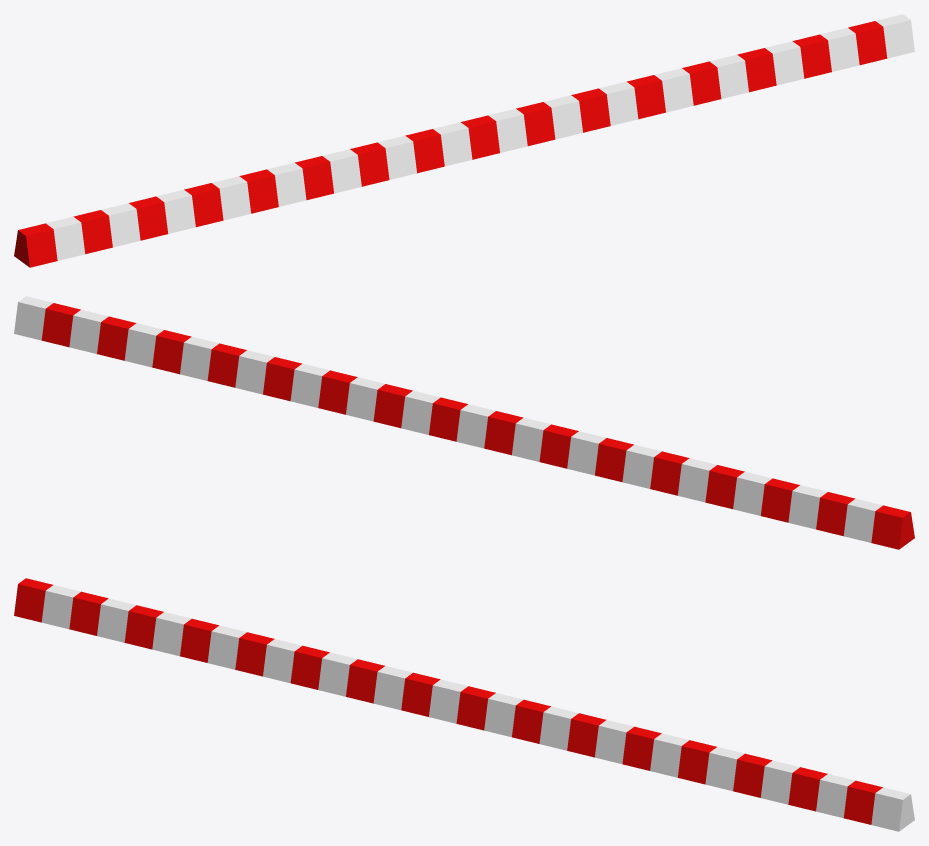
Rendered from Barrier32RedWhite.fbx.
The picture shows the model from 3 angles, top to bottom: view 1: azimuth 30°, elevation 25°; view 2: azimuth 150°, elevation 25°; view 3: azimuth 330°, elevation 25°; orthographic projection.
Parts seen in each view (by area): view 1: Barrier32RedWhite; view 2: Barrier32RedWhite; view 3: Barrier32RedWhite.
Part boxes in pixels (<box>): Barrier32RedWhite: <box>14,14,914,267</box>; Barrier32RedWhite: <box>14,296,914,549</box>; Barrier32RedWhite: <box>14,578,914,831</box>.
Bounding box in the file's own units: 64 × 2 × 2.
